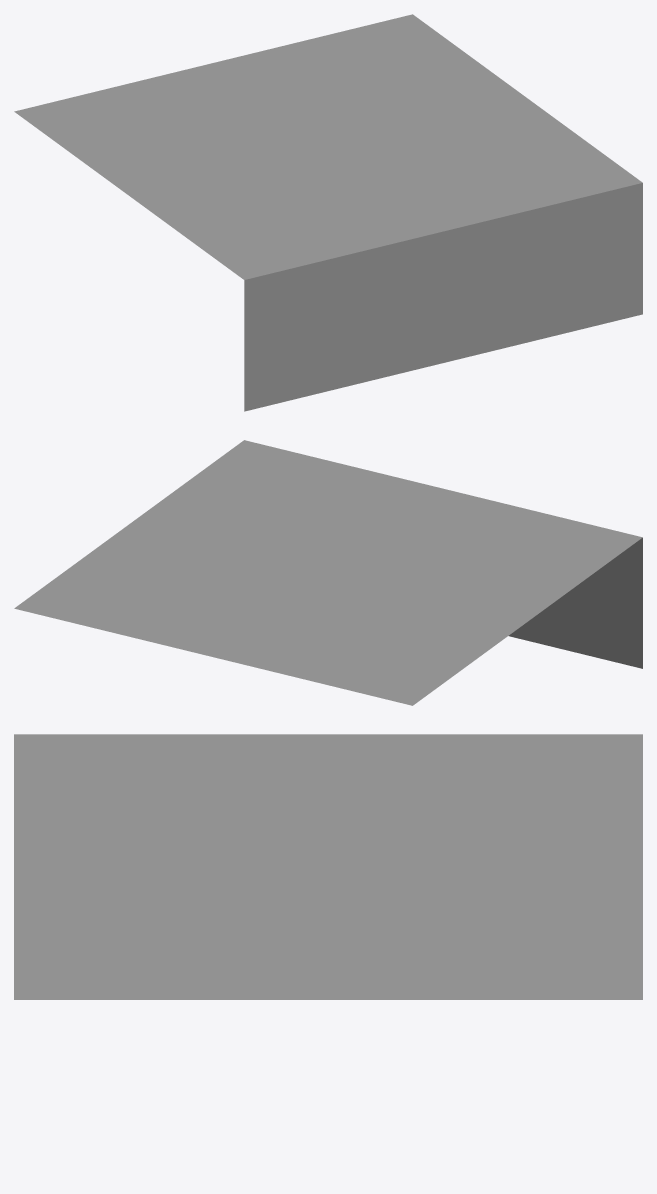
File: beach_tile_1x1_008.fbx
3 renders of one model, top to bottom at view 1: azimuth 30°, elevation 25°; view 2: azimuth 150°, elevation 25°; view 3: azimuth 270°, elevation 25°, orthographic. The views are drawn at different scales.
Parts seen in each view (by area): view 1: beach_tile_1x1_008; view 2: beach_tile_1x1_008; view 3: beach_tile_1x1_008.
Boxes of the visible parts, bbox=[...] form: beach_tile_1x1_008: bbox=[14, 14, 642, 411]; beach_tile_1x1_008: bbox=[14, 440, 642, 705]; beach_tile_1x1_008: bbox=[14, 734, 642, 999].
Size of the model in its own units: 800 by 252 by 800.
